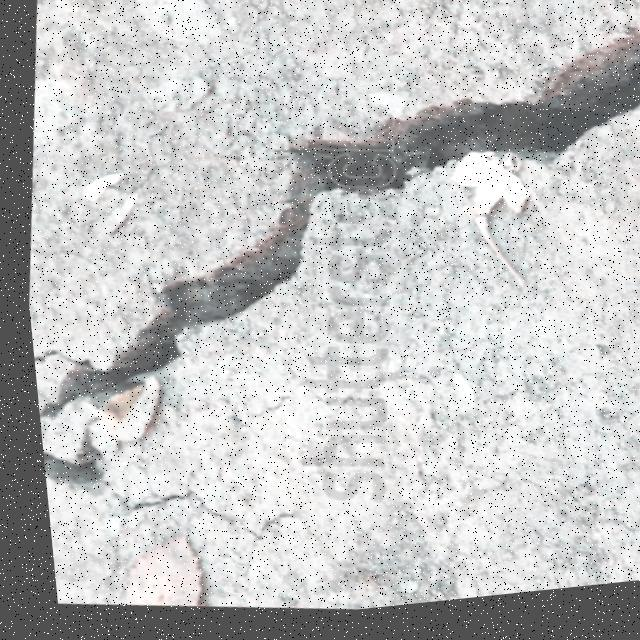branched cracks: (40, 27, 639, 418), (44, 425, 108, 488), (113, 490, 217, 514)
